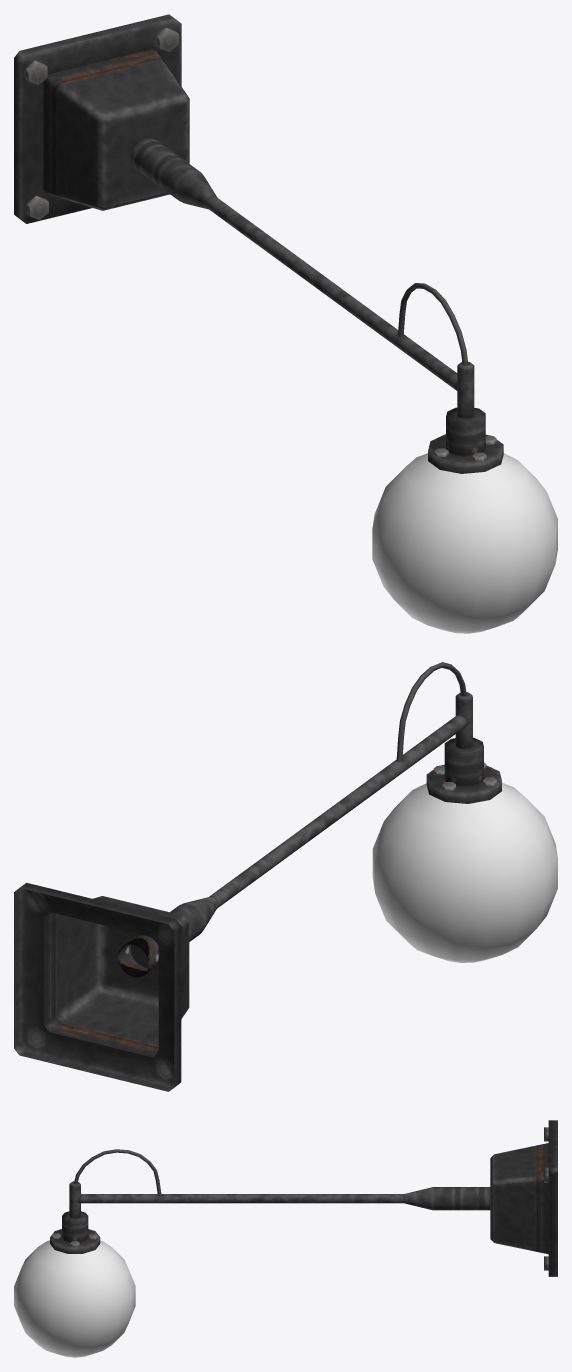
The model's file is LampWall_Small1.fbx.
3 renders of one model, top to bottom at view 1: azimuth 30°, elevation 25°; view 2: azimuth 150°, elevation 25°; view 3: azimuth 270°, elevation 25°, orthographic. The views are drawn at different scales.
Parts seen in each view (by area): view 1: LampWall_Small1_LOD0; view 2: LampWall_Small1_LOD0; view 3: LampWall_Small1_LOD0.
Part boxes in pixels (x1,y1,x2,y2): LampWall_Small1_LOD0: (14, 14, 557, 633); LampWall_Small1_LOD0: (14, 662, 557, 1091); LampWall_Small1_LOD0: (14, 1120, 557, 1357).
Size of what is drawn, in the model's own units: 48.93 by 92.38 by 219.
